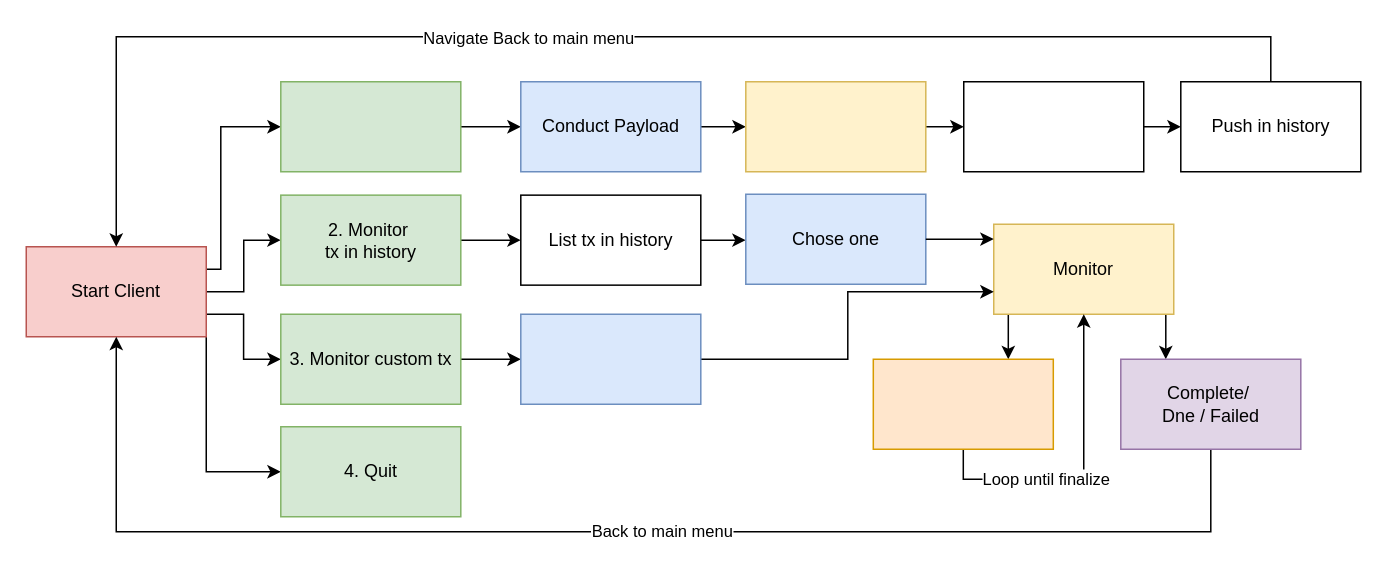
The diagram is 1388 pixels wide and 570 high, and some of its shapes have lost their labels. Here are the shapes that lost their labels. From the top down, the centre of each, then its label:
At point 370,126: "1. Conduct payload and Broadcast".
At point 835,126: "Broadcast".
At point 1053,126: "Get tx".
At point 610,358: "Fill in tx".
At point 962,403: "Pending Tx".
